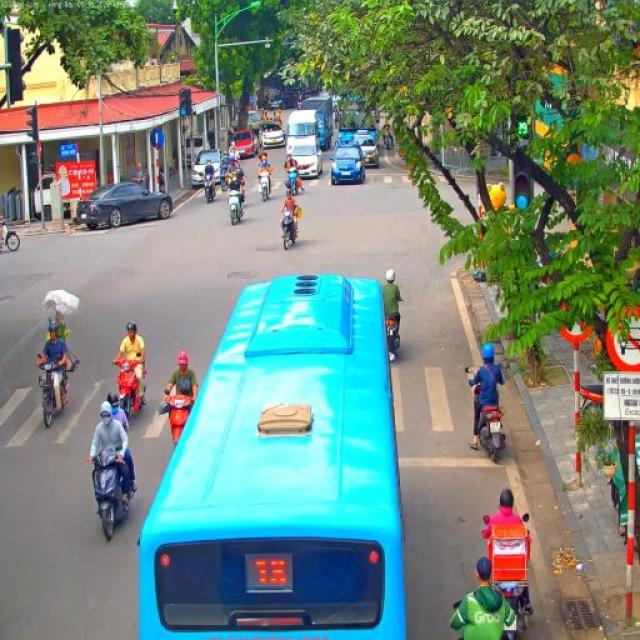bus: (138, 271, 408, 640)
car: (75, 180, 174, 230), (285, 135, 324, 180), (329, 143, 366, 185), (191, 148, 223, 188), (352, 133, 380, 168), (230, 130, 258, 160), (260, 122, 286, 149)
motorcycle: (481, 511, 534, 640), (84, 447, 134, 542), (464, 366, 507, 463), (109, 356, 147, 422), (37, 354, 69, 430), (160, 391, 196, 448), (278, 205, 303, 250), (384, 317, 401, 362), (226, 187, 245, 226), (1, 215, 20, 253), (579, 384, 603, 408), (258, 169, 272, 202), (287, 168, 302, 198), (202, 172, 216, 203), (219, 162, 229, 192), (226, 172, 238, 196), (230, 150, 240, 170), (382, 132, 390, 147)
truck: (300, 92, 334, 152), (286, 108, 326, 158), (338, 108, 377, 146), (261, 72, 295, 109), (246, 110, 262, 138)
